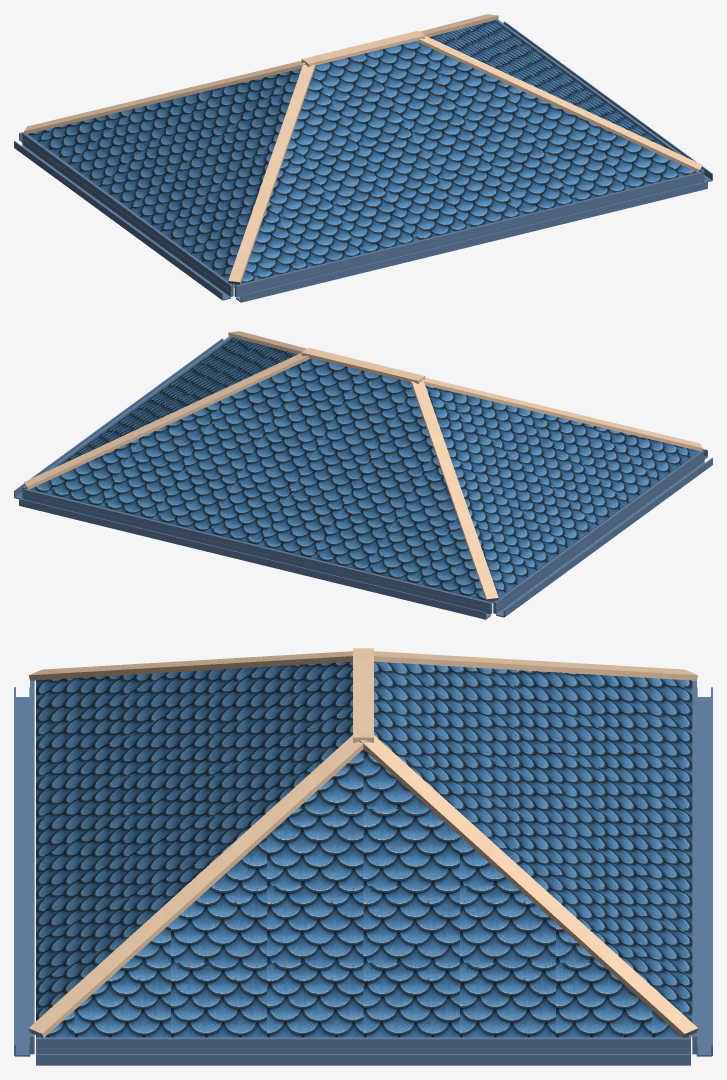
Rendered from Roof_Hip_8x6.fbx.
The picture shows the model from 3 angles, top to bottom: view 1: azimuth 30°, elevation 25°; view 2: azimuth 150°, elevation 25°; view 3: azimuth 270°, elevation 25°; orthographic projection. The views are drawn at different scales.
Parts seen in each view (by area): view 1: Roof_Hip_8x6; view 2: Roof_Hip_8x6; view 3: Roof_Hip_8x6.
Boxes of the visible parts, x1,y1,x2,y2 form: Roof_Hip_8x6: [14, 14, 712, 302]; Roof_Hip_8x6: [14, 331, 712, 619]; Roof_Hip_8x6: [14, 648, 712, 1065].
Size of the model in its own units: 9.26 by 2.12 by 7.26.
Materials: 2 (2 with a texture image).
